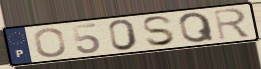0: (107, 19, 140, 52)
5: (71, 22, 102, 55)
O: (32, 27, 68, 59)
Q: (177, 10, 217, 44)
R: (212, 7, 253, 42)
S: (140, 14, 178, 48)
